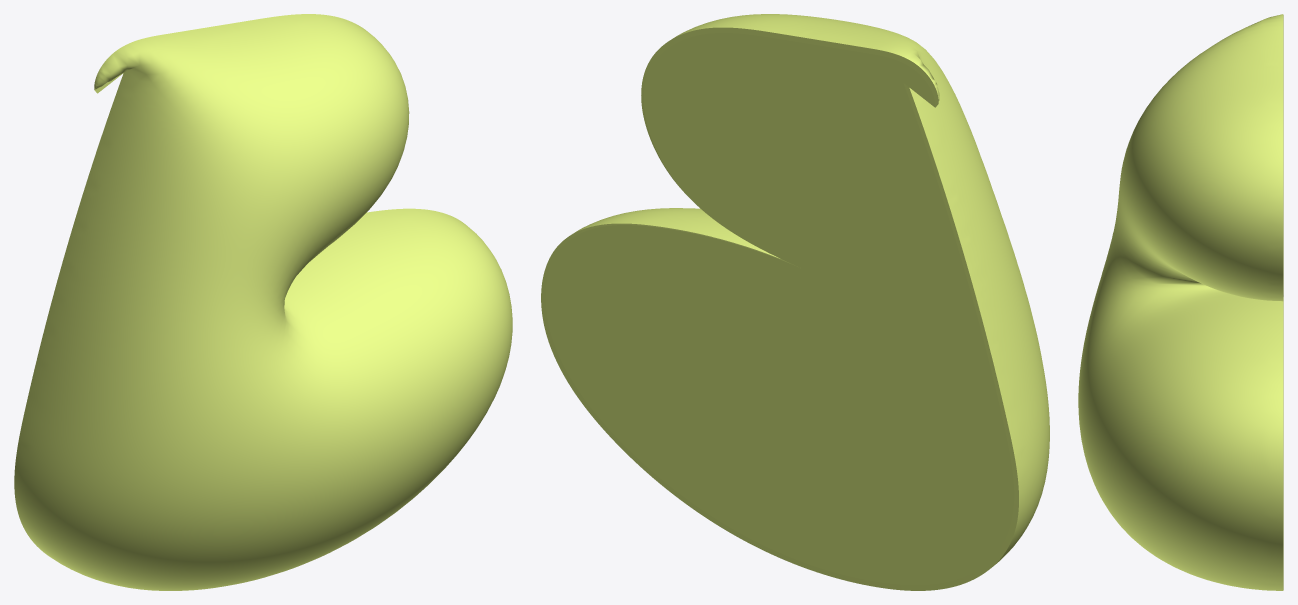
3 views of the same model, side by side, from view 1: azimuth 30°, elevation 25°; view 2: azimuth 150°, elevation 25°; view 3: azimuth 270°, elevation 25° (orthographic). The views are drawn at different scales.
Size of the model in its own units: 0.1216 by 0.1311 by 0.0476.
